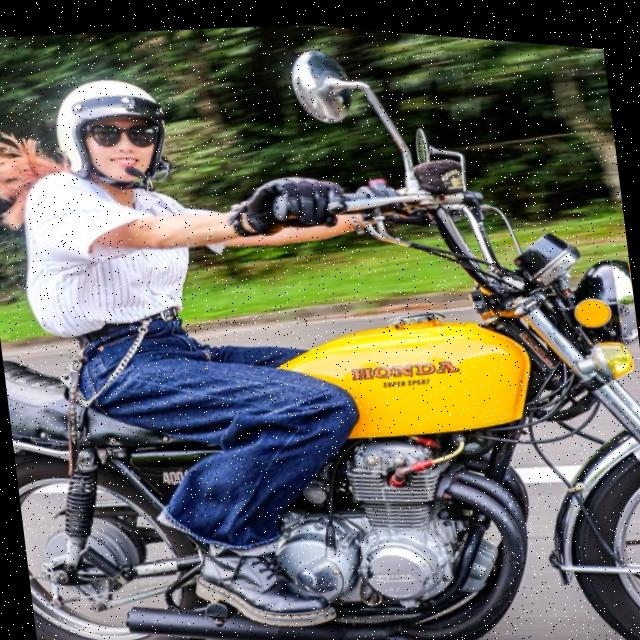helmet: (43, 61, 180, 206)
